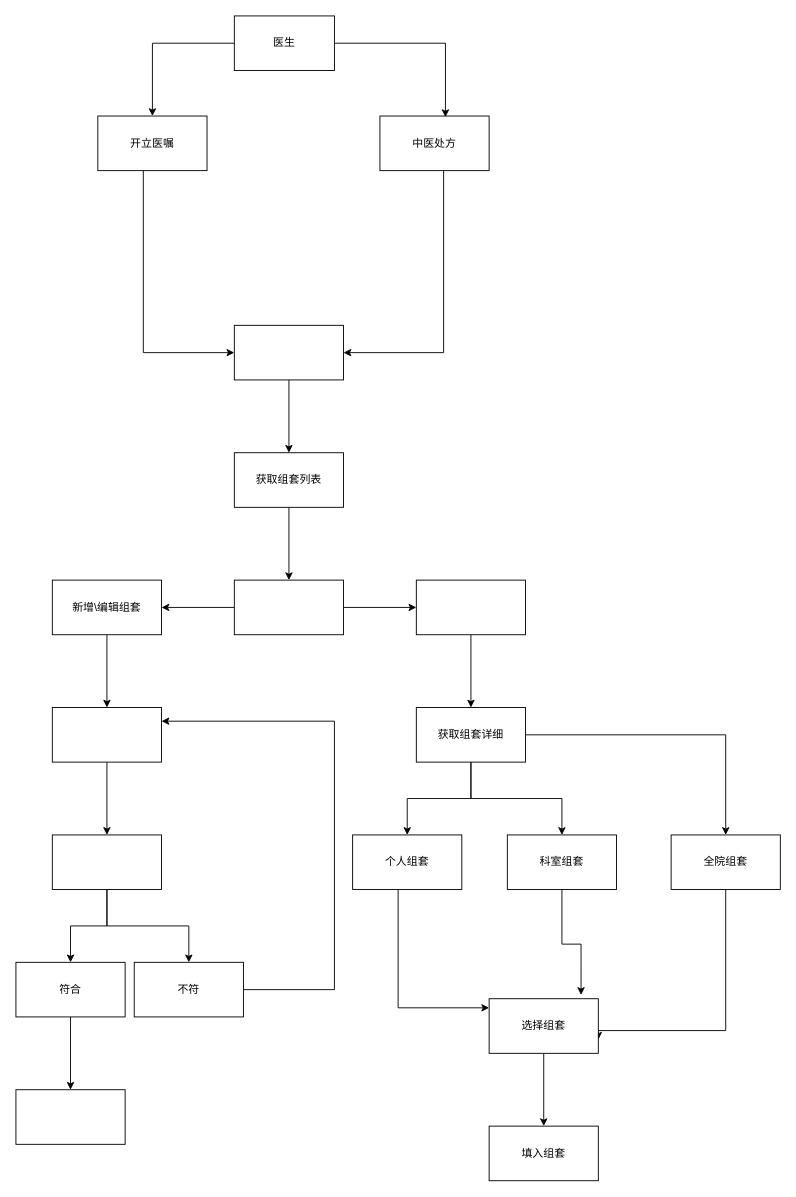
Some shapes in this 796 by 1197 pixel diagram are drawn without their labels. The box of each missing label's shape, as (x1, y1, x2, y2) in pixels:
查看组套详细: (415, 579, 526, 635)
获取组套名称: (51, 707, 162, 762)
进入组套模板: (233, 324, 344, 380)
进行修改组套: (15, 1089, 125, 1144)
进行身份验证判断: (51, 834, 162, 890)
选择操作: (233, 579, 344, 635)
